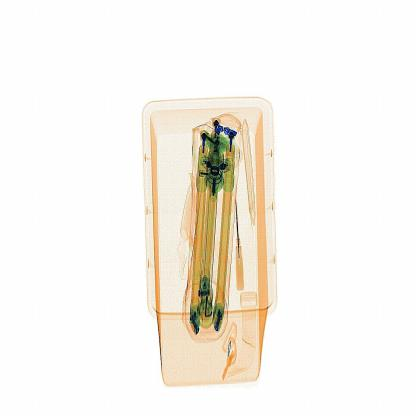wrench: (231, 192, 244, 297)
